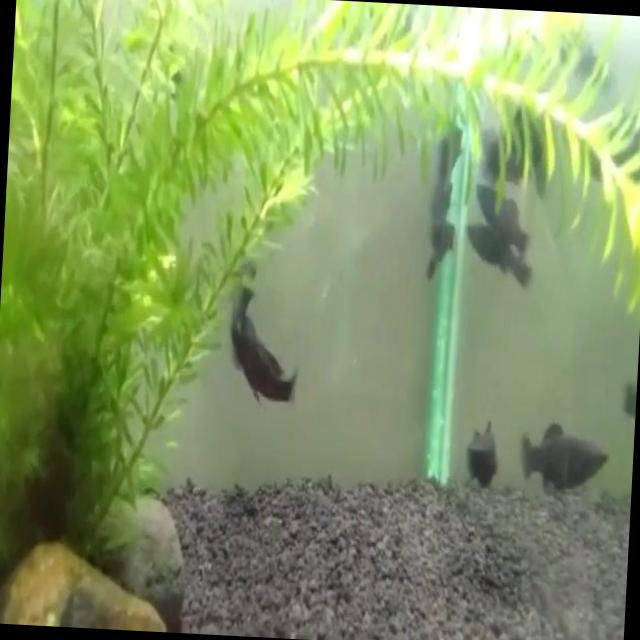PlatyFish: (516, 414, 618, 513), (472, 170, 546, 256)
